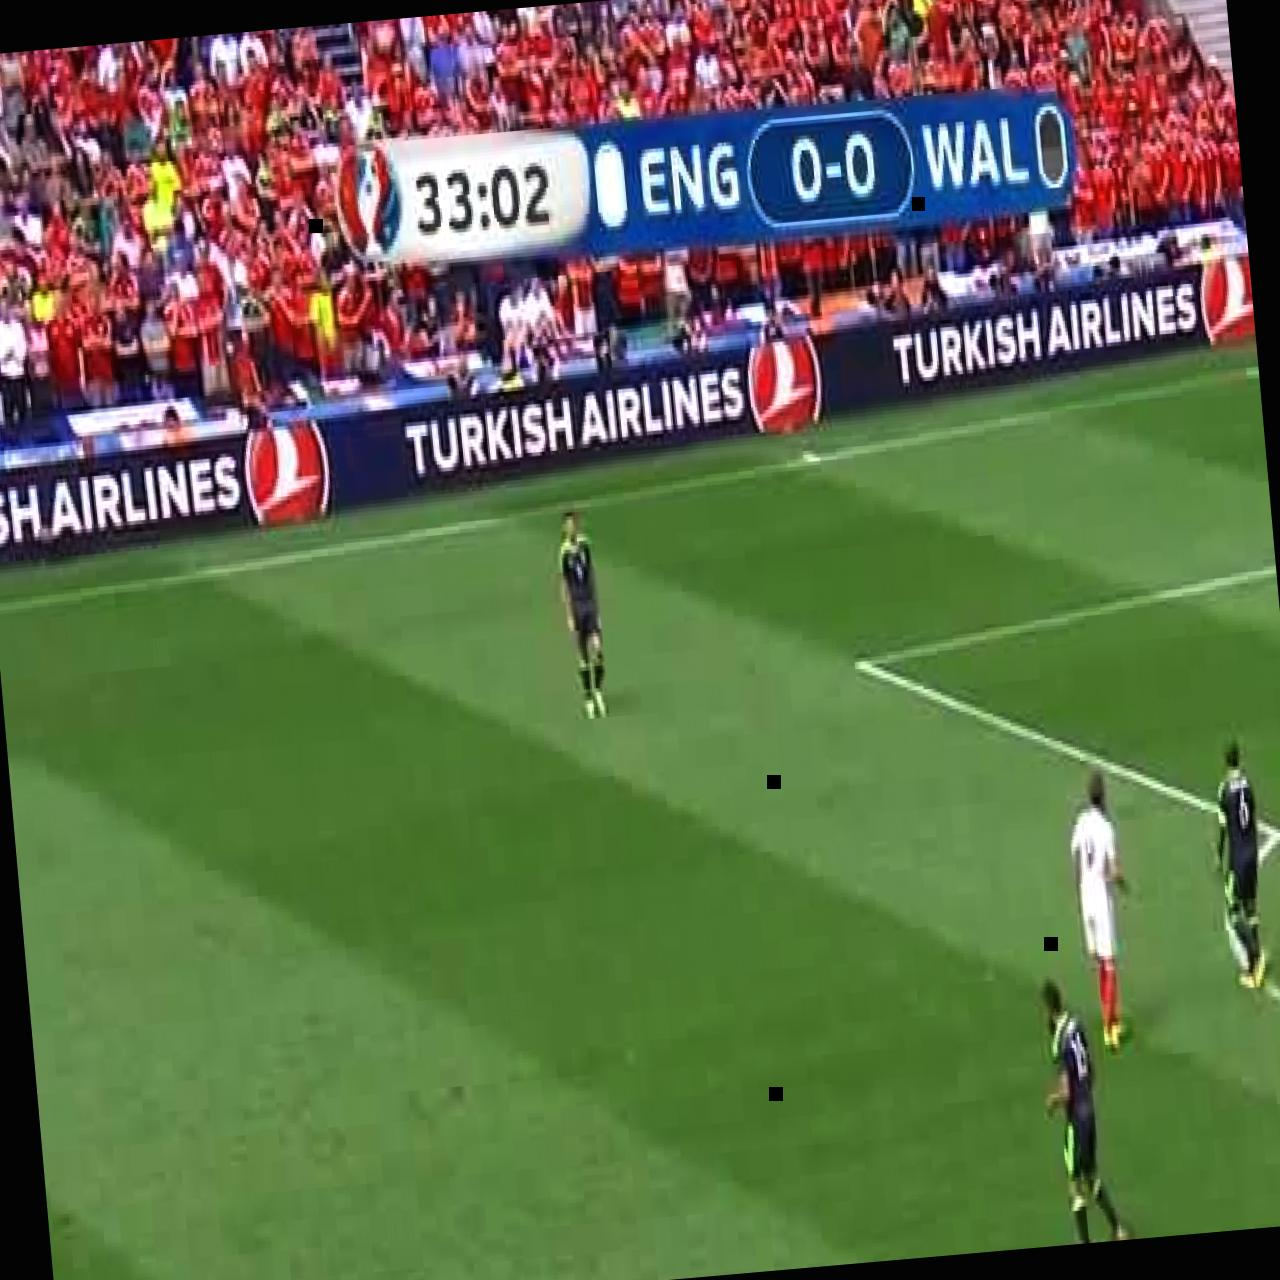football: (1030, 974, 1128, 1246), (1064, 767, 1143, 1054), (1204, 742, 1270, 991), (556, 509, 610, 720)
